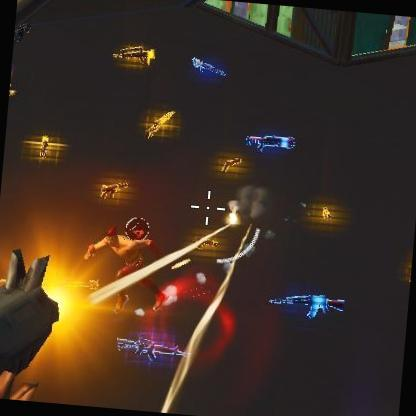person: (82, 212, 166, 285)
